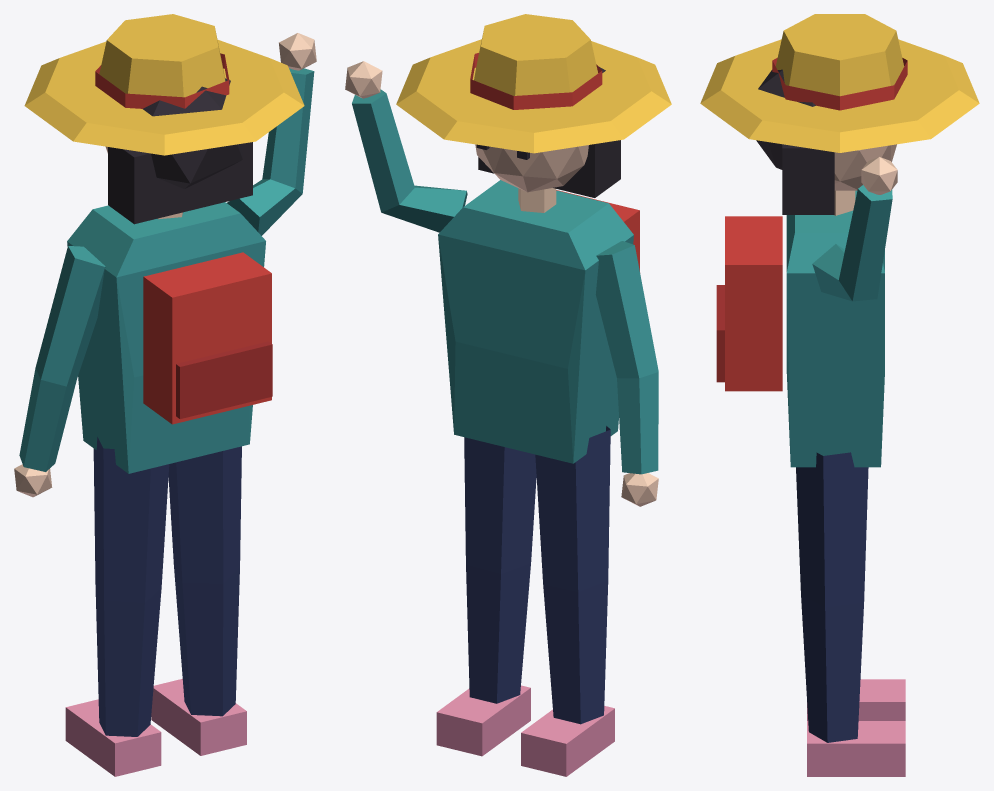
The model's file is spectator_f.glb.
3 views of the same model, side by side, from view 1: azimuth 30°, elevation 25°; view 2: azimuth 150°, elevation 25°; view 3: azimuth 270°, elevation 25° (orthographic).
Visible parts, largest first — view 1: spectator_f; view 2: spectator_f; view 3: spectator_f.
Boxes of the visible parts, x1=… form: spectator_f: x1=14, y1=14, x2=316, y2=776; spectator_f: x1=345, y1=14, x2=671, y2=776; spectator_f: x1=700, y1=14, x2=979, y2=776.
Size of the model in its own units: 0.5833 by 1.3 by 0.4629.
